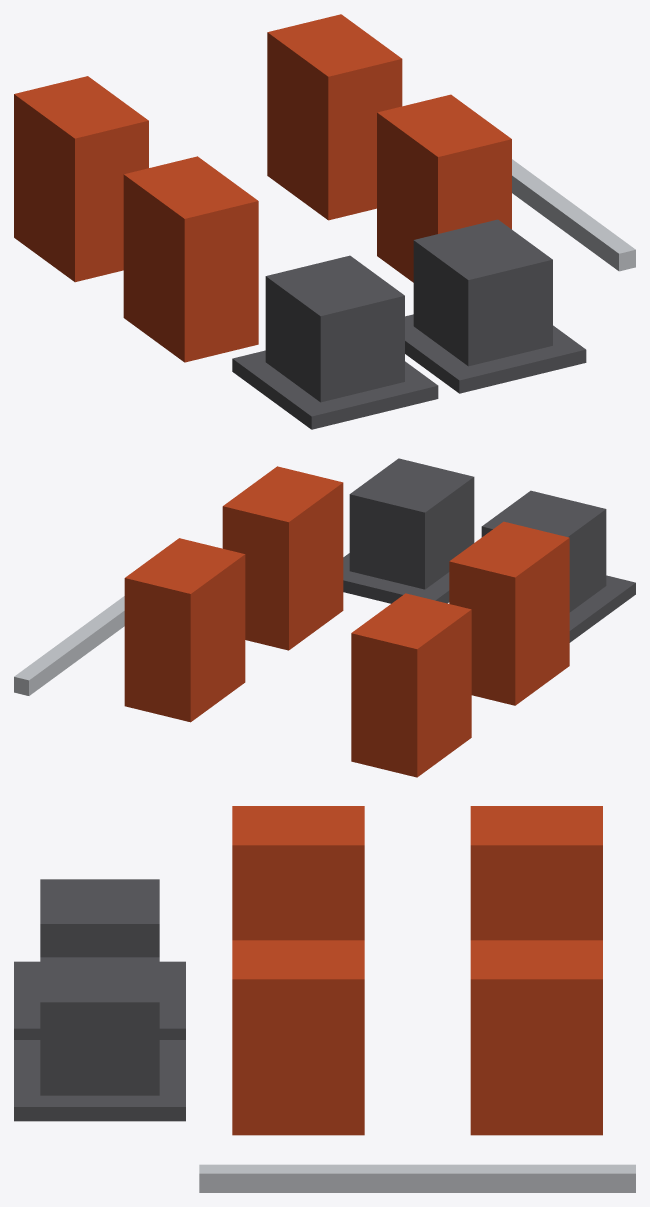
Rendered from KIT_LIFT_2in.glb.
3 views of the same model, one above another, from view 1: azimuth 30°, elevation 25°; view 2: azimuth 150°, elevation 25°; view 3: azimuth 270°, elevation 25° (orthographic). The views are drawn at different scales.
Parts seen in each view (by area): view 1: Blocks, Adjusters, Bolts; view 2: Blocks, Adjusters, Bolts; view 3: Blocks, Adjusters, Bolts.
Boxes of the visible parts, <box> form: Blocks: <box>14,14,511,362</box>; Adjusters: <box>232,219,586,429</box>; Bolts: <box>512,159,635,271</box>; Blocks: <box>124,466,569,777</box>; Adjusters: <box>343,458,635,642</box>; Bolts: <box>14,596,124,695</box>; Blocks: <box>232,806,602,1135</box>; Adjusters: <box>14,879,185,1121</box>; Bolts: <box>199,1164,635,1192</box>.
Size of the model in its own units: 0.413 by 0.13 by 0.47.
